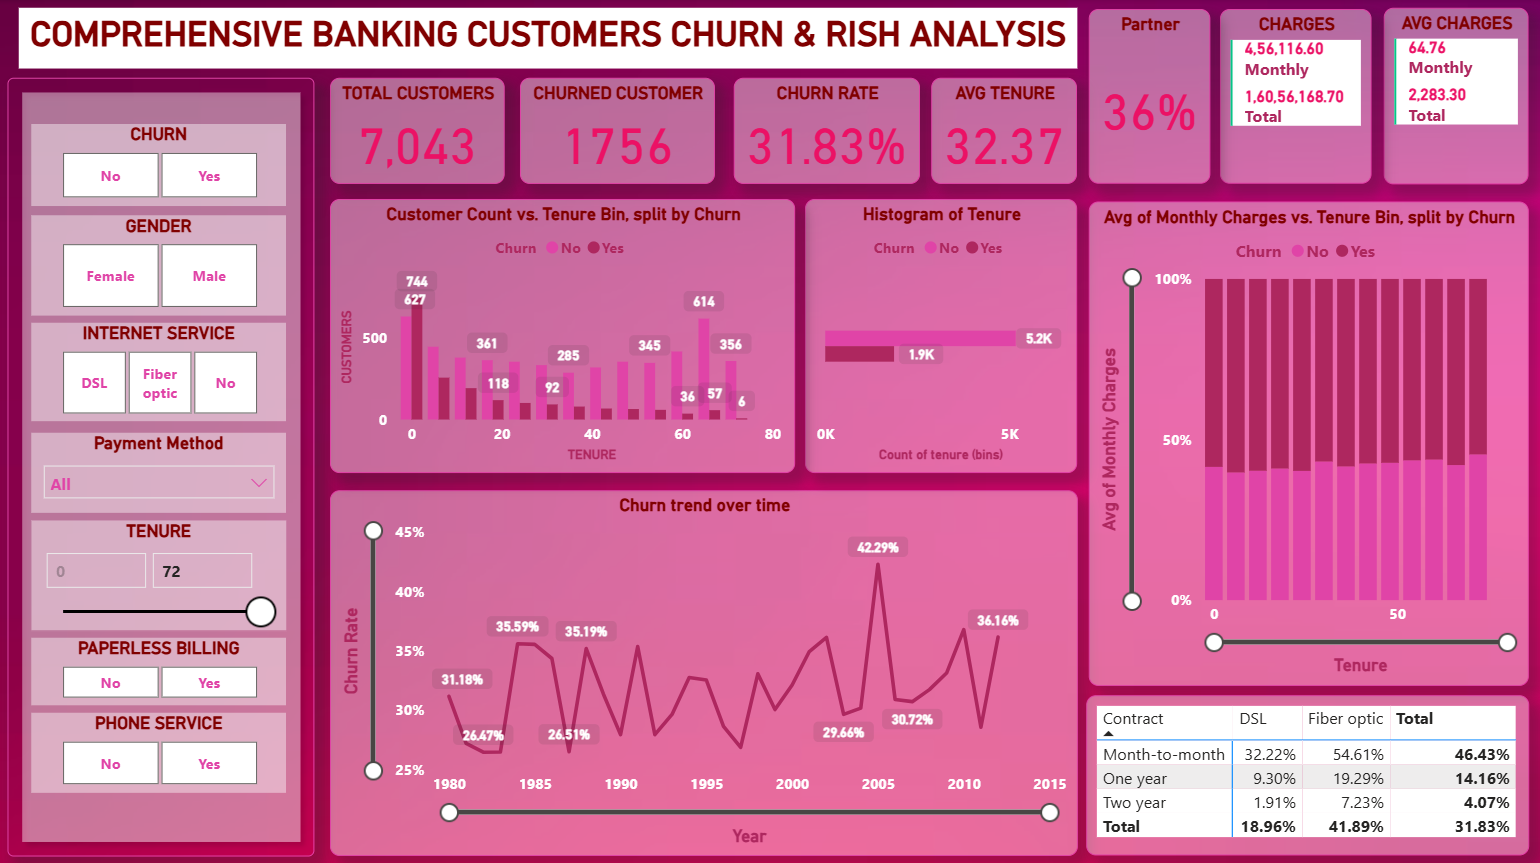

This screenshot's page, from the dashboard's own definition file:
{"tool":"powerbi","page":{"name":"Dashboard 1","canvas":[1280,720],"ordinal":0},"visuals":[{"type":"card","title":"TOTAL CUSTOMERS","fields":{"Values":["Count(CHURN_DATA.customerID)"]},"box":[273.1,65.3,144.9,87.9],"z":0},{"type":"card","title":"CHURNED CUSTOMER","fields":{"Values":["CustomerFull.Churned Customers"]},"box":[431.1,65.3,161.5,87.9],"z":1000},{"type":"card","title":"CHURN RATE","fields":{"Values":["CHURN_DATA.Churn Rate"]},"box":[608.1,65.3,154.4,87.9],"z":2000},{"type":"card","title":"AVG TENURE","fields":{"Values":["Avg(CHURN_DATA.tenure)"]},"box":[771.9,65.3,121.1,87.9],"z":3000},{"type":"multiRowCard","title":"AVG CHARGES","fields":{"Values":["Avg(CHURN_DATA.MonthlyCharges)","Avg(CHURN_DATA.TotalCharges)"]},"box":[1147.2,7.1,119.9,146.1],"z":4000},{"type":"multiRowCard","title":"CHARGES","fields":{"Values":["Sum(CHURN_DATA.MonthlyCharges)","Sum(CHURN_DATA.TotalCharges)"]},"box":[1011.8,8.3,125.9,144.9],"z":5000},{"type":"textbox","box":[15.1,7,877.9,50],"z":7000},{"type":"shape","box":[5.8,65.1,254.7,645.4],"z":8000},{"type":"card","title":"Partner","fields":{"Values":["CustomerFull.% of partner"]},"box":[902.6,8.3,100.9,144.9],"z":9000},{"type":"slicer","title":"CHURN","fields":{"Values":["CHURN_DATA.Churn"]},"box":[26.1,103.5,211.4,67.7],"z":10000},{"type":"slicer","title":"INTERNET SERVICE","fields":{"Values":["INTERNET_DATA.InternetService"]},"box":[26.1,268.6,211.4,81.9],"z":11000},{"type":"slicer","title":"TENURE","fields":{"Values":["CHURN_DATA.tenure"]},"box":[26.1,432.5,211.4,91.4],"z":12000},{"type":"slicer","title":"PAPERLESS BILLING","fields":{"Values":["CHURN_DATA.PaperlessBilling"]},"box":[26.1,529.9,211.4,55.8],"z":13000},{"type":"slicer","title":"GENDER","fields":{"Values":["CUSTOMER_DATA.gender"]},"box":[26.1,179.5,211.4,83.1],"z":14000},{"type":"slicer","title":"PHONE SERVICE","fields":{"Values":["CHURN_DATA.PhoneService"]},"box":[26.1,591.6,211.4,66.5],"z":15000},{"type":"slicer","title":"Payment Method","fields":{"Values":["CHURN_DATA.PaymentMethod"]},"box":[26.1,360,211.4,66.5],"z":16000},{"type":"lineChart","title":"Churn trend over time","fields":{"Category":["CUSTOMER_DATA.year"],"Y":["CHURN_DATA.Churn Rate"]},"box":[273.1,407.3,619.9,302.8],"z":17000},{"type":"clusteredBarChart","title":"Histogram of Tenure","fields":{"Y":["CountNonNull(CHURN_DATA.tenure (bins))"],"Series":["CHURN_DATA.Churn"]},"box":[667.4,166.3,225.6,226.8],"z":18000},{"type":"clusteredColumnChart","title":"Customer Count vs. Tenure Bin, split by Churn ","fields":{"Category":["CHURN_DATA.tenure (bins)"],"Series":["CHURN_DATA.Churn"],"Y":["CountNonNull(CHURN_DATA.customerID)"]},"box":[273.1,166.3,386,226.8],"z":19000},{"type":"hundredPercentStackedColumnChart","title":"Avg of Monthly Charges vs. Tenure Bin, split by Churn ","fields":{"Series":["CHURN_DATA.Churn"],"Category":["CHURN_DATA.tenure (bins)"],"Y":["Avg(CHURN_DATA.MonthlyCharges)"]},"box":[902.6,167.5,364.6,401.4],"z":20000},{"type":"pivotTable","fields":{"Rows":["CHURN_DATA.Contract"],"Columns":["CustomerFull.InternetService"],"Values":["CHURN_DATA.Churn Rate"]},"box":[900.2,577.2,367,133],"z":21000}]}

Visuals, with their boxes in screenshot pixels (x1, y1, x2, y2), scaled from the page's 1280x720 canvas onto the 1540x863 screenshot:
"TOTAL CUSTOMERS" card: bbox(329, 78, 503, 184)
"CHURNED CUSTOMER" card: bbox(519, 78, 713, 184)
"CHURN RATE" card: bbox(732, 78, 917, 184)
"AVG TENURE" card: bbox(929, 78, 1074, 184)
"AVG CHARGES" multiRowCard: bbox(1380, 9, 1524, 184)
"CHARGES" multiRowCard: bbox(1217, 10, 1369, 184)
textbox: bbox(18, 8, 1074, 68)
shape: bbox(7, 78, 313, 852)
"Partner" card: bbox(1086, 10, 1207, 184)
"CHURN" slicer: bbox(31, 124, 286, 205)
"INTERNET SERVICE" slicer: bbox(31, 322, 286, 420)
"TENURE" slicer: bbox(31, 518, 286, 628)
"PAPERLESS BILLING" slicer: bbox(31, 635, 286, 702)
"GENDER" slicer: bbox(31, 215, 286, 315)
"PHONE SERVICE" slicer: bbox(31, 709, 286, 789)
"Payment Method" slicer: bbox(31, 432, 286, 511)
"Churn trend over time" lineChart: bbox(329, 488, 1074, 851)
"Histogram of Tenure" clusteredBarChart: bbox(803, 199, 1074, 471)
"Customer Count vs. Tenure Bin, split by Churn " clusteredColumnChart: bbox(329, 199, 793, 471)
"Avg of Monthly Charges vs. Tenure Bin, split by Churn " hundredPercentStackedColumnChart: bbox(1086, 201, 1525, 682)
pivotTable - CHURN_DATA.Contract x CustomerFull.InternetService: bbox(1083, 692, 1525, 851)
